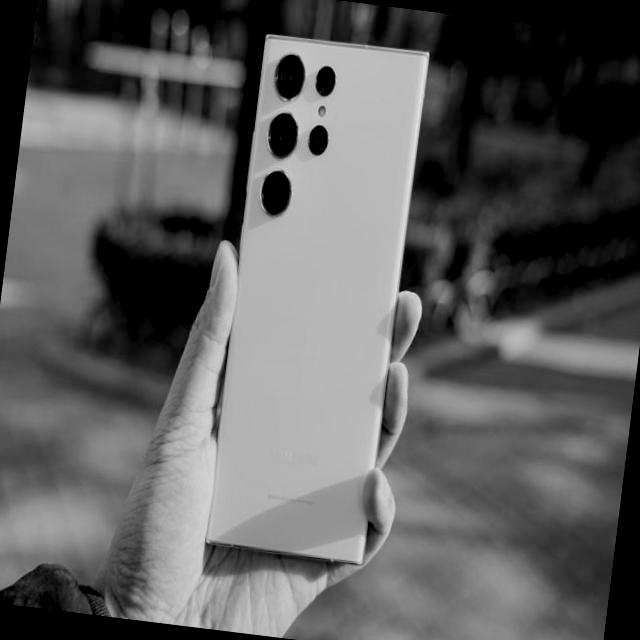lens: (254, 45, 341, 226)
phone: (198, 27, 432, 571)
